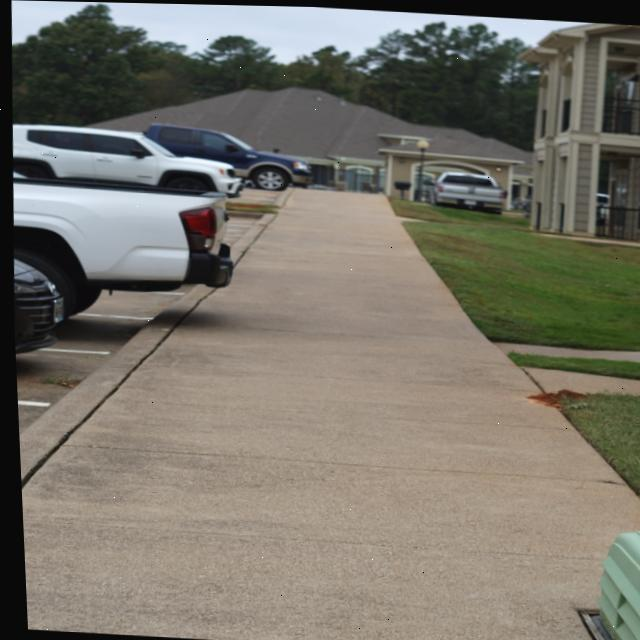Automobile: (11, 123, 311, 353), (426, 169, 503, 210)
Obstacle: (591, 528, 640, 640)
Road: (12, 297, 166, 435)
Sidewalk: (15, 188, 640, 640)
